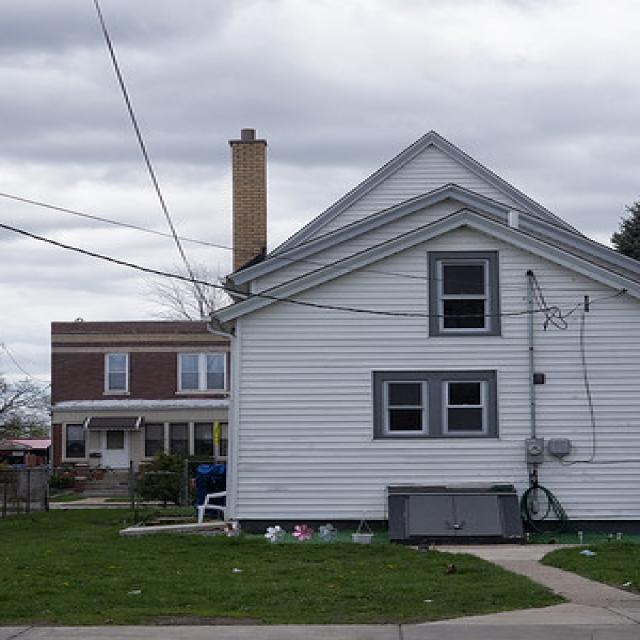Normal_building: (213, 130, 640, 546)
